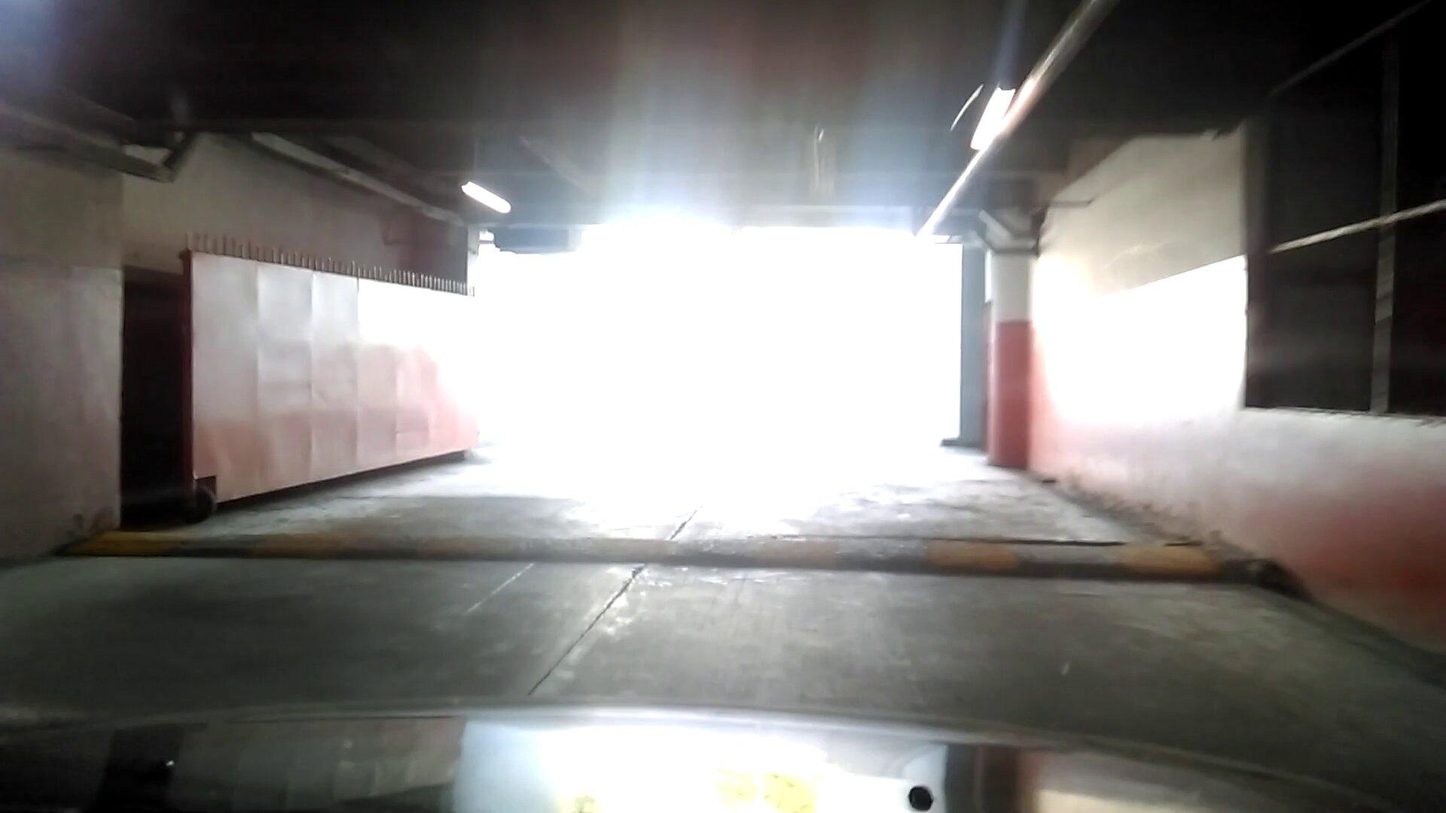Bump: (50, 525, 1293, 589)
